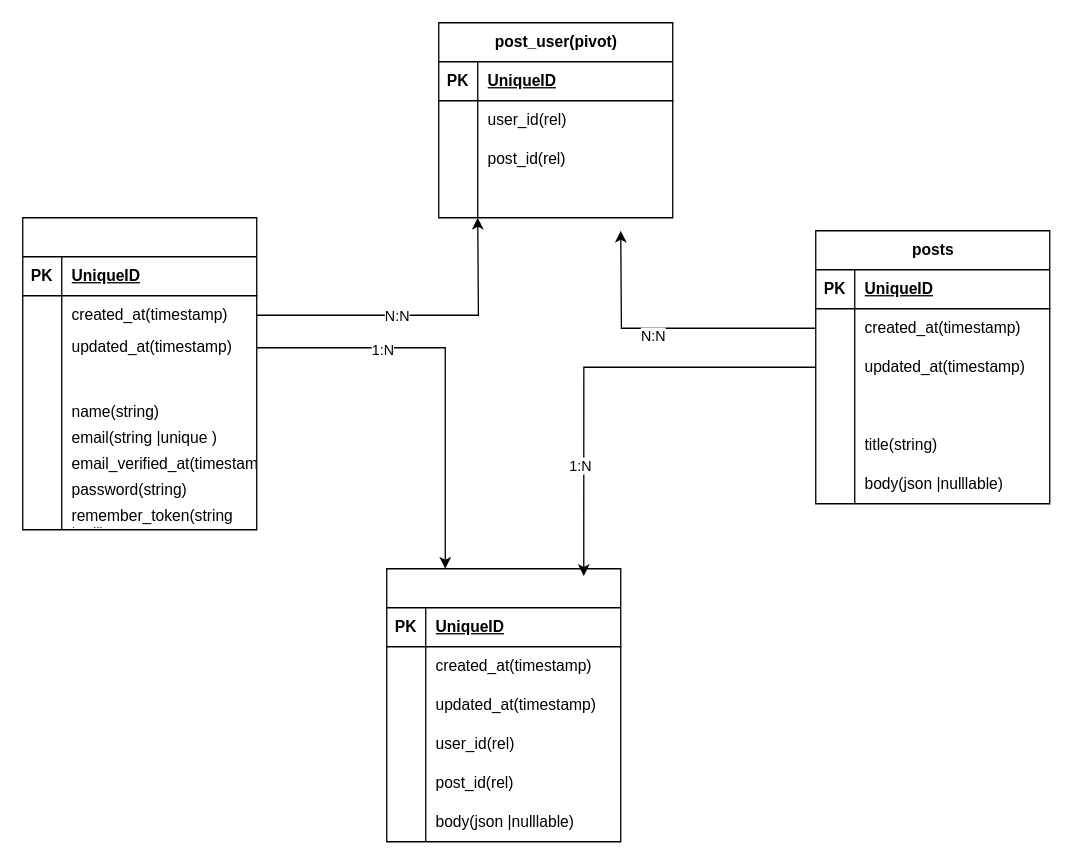
The diagram is 1073 pixels wide and 864 high, and some of its shapes have lost their labels. The shapes that lost their labels are listed below. From the top down, each one's box as (x1, y1, x2, y2) in pixels, then its label:
(21, 216, 257, 530): users
(385, 567, 621, 842): comments
